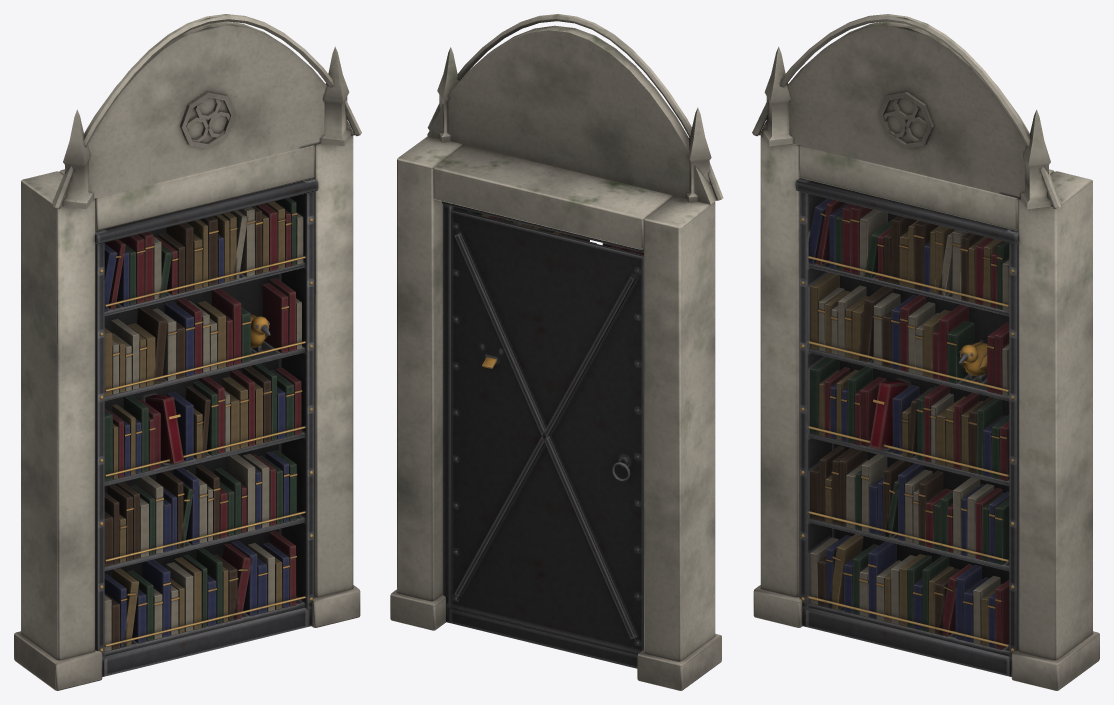
The model's file is BookcaseSecretDoor.fbx.
3 views of the same model, side by side, from view 1: azimuth 30°, elevation 25°; view 2: azimuth 150°, elevation 25°; view 3: azimuth 330°, elevation 25° (orthographic). The views are drawn at different scales.
Parts seen in each view (by area): view 1: BookcaseSecretDoor_Main, BookcaseSecretDoor_Door0; view 2: BookcaseSecretDoor_Main, BookcaseSecretDoor_Door0; view 3: BookcaseSecretDoor_Main, BookcaseSecretDoor_Door0.
Boxes of the visible parts, x1,y1,x2,y2 form: BookcaseSecretDoor_Main: [14, 14, 361, 690]; BookcaseSecretDoor_Door0: [95, 178, 318, 676]; BookcaseSecretDoor_Main: [390, 14, 723, 690]; BookcaseSecretDoor_Door0: [442, 201, 643, 668]; BookcaseSecretDoor_Main: [752, 14, 1099, 690]; BookcaseSecretDoor_Door0: [795, 178, 1018, 676].
Bounding box in the file's own units: 559 × 1109 × 158.
